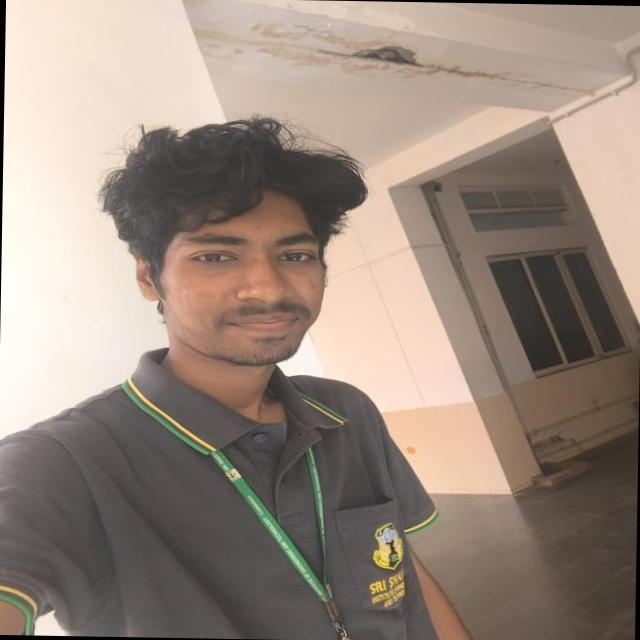id_card: (207, 429, 358, 640)
